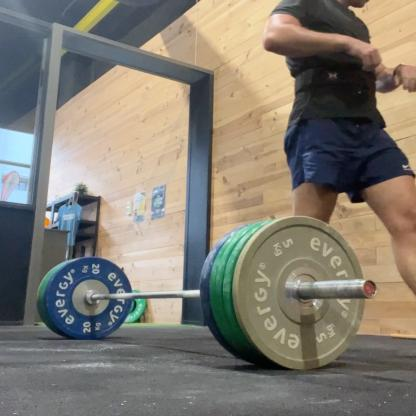barbell: (235, 216, 367, 373), (46, 257, 135, 341)
